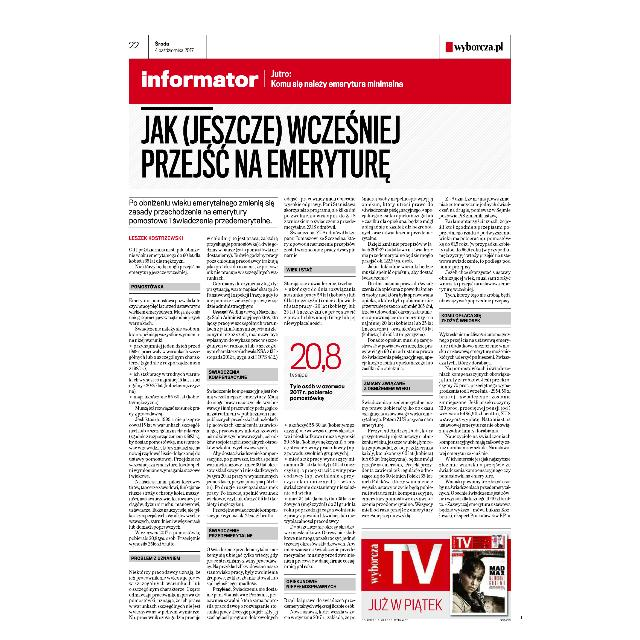article: (128, 106, 518, 624)
